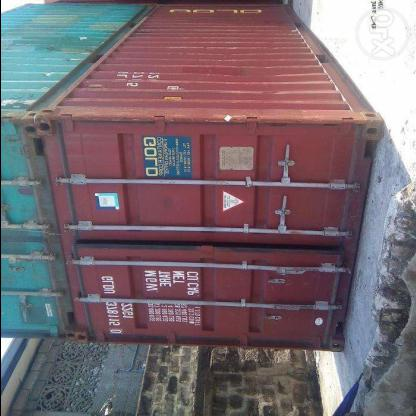Damage: (40, 101, 213, 131), (166, 35, 242, 70), (152, 191, 189, 229), (291, 108, 331, 131), (260, 76, 294, 98)
